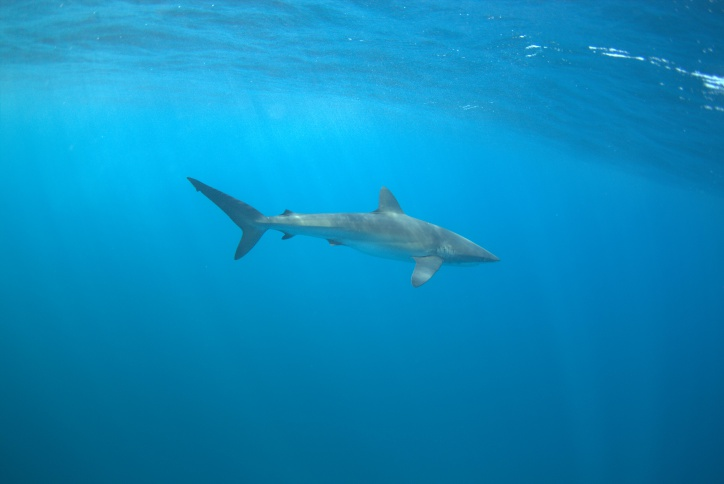Sedoso: (172, 156, 516, 290)
